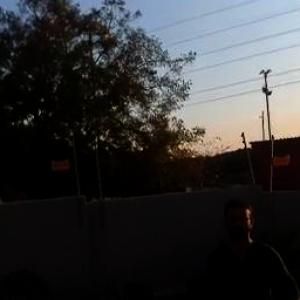follow: (198, 191, 300, 299)
